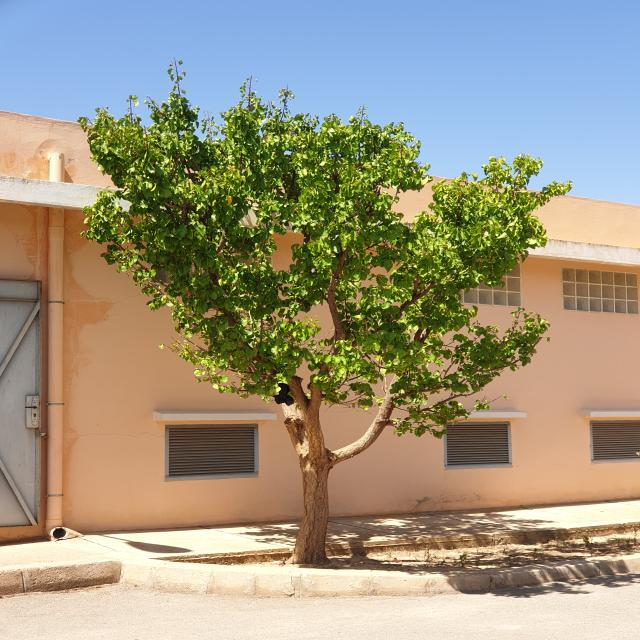Tree: (80, 64, 570, 565)
